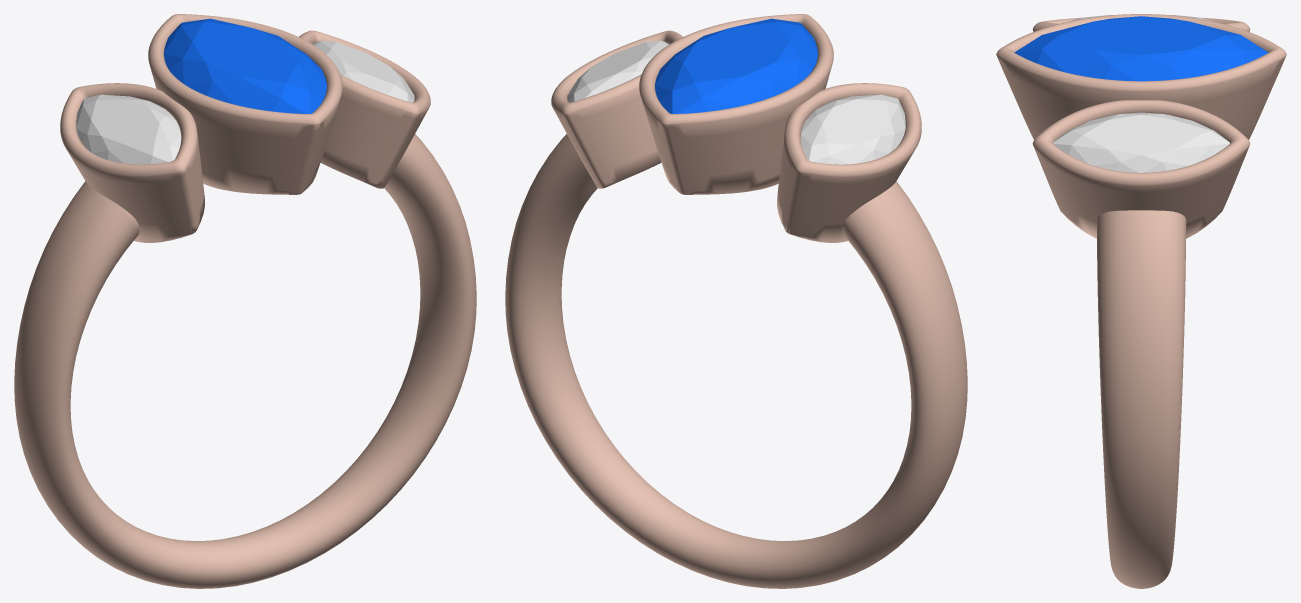
File: bluesapphire-marquise-rosegold-bezelset-taperedband-3stone.glb
3 views of the same model, side by side, from view 1: azimuth 30°, elevation 25°; view 2: azimuth 150°, elevation 25°; view 3: azimuth 270°, elevation 25° (orthographic).
Visible parts, largest first — view 1: metal.002, stone.002, side.005, side.004; view 2: metal.002, stone.002, side.005, side.004; view 3: metal.002, stone.002, side.004.
Part boxes in pixels (left/top/right/bottom): metal.002: left=14, top=14, right=476, bottom=588; stone.002: left=164, top=18, right=326, bottom=113; side.005: left=76, top=94, right=181, bottom=164; side.004: left=313, top=41, right=414, bottom=102; metal.002: left=505, top=14, right=967, bottom=588; stone.002: left=655, top=18, right=817, bottom=113; side.005: left=800, top=94, right=905, bottom=164; side.004: left=567, top=41, right=668, bottom=102; metal.002: left=996, top=14, right=1286, bottom=588; stone.002: left=1014, top=16, right=1268, bottom=81; side.004: left=1053, top=112, right=1229, bottom=172.
Size of the model in its own units: 20.09 by 22.73 by 11.31.
